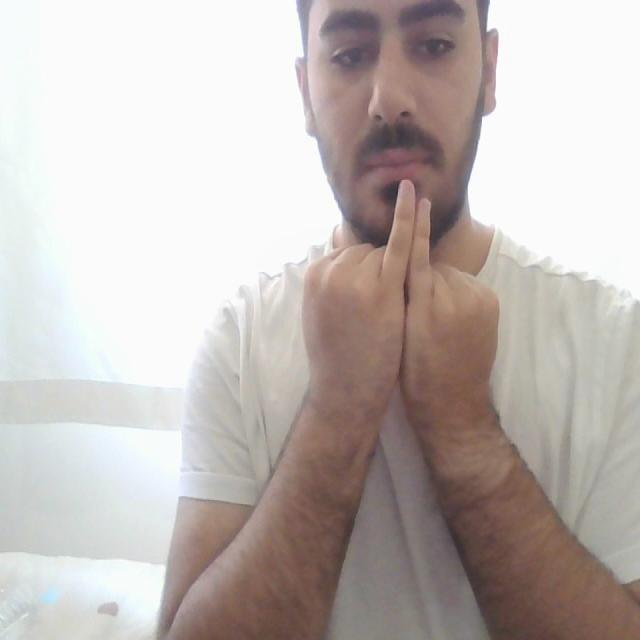Kardes: (297, 178, 501, 441)
